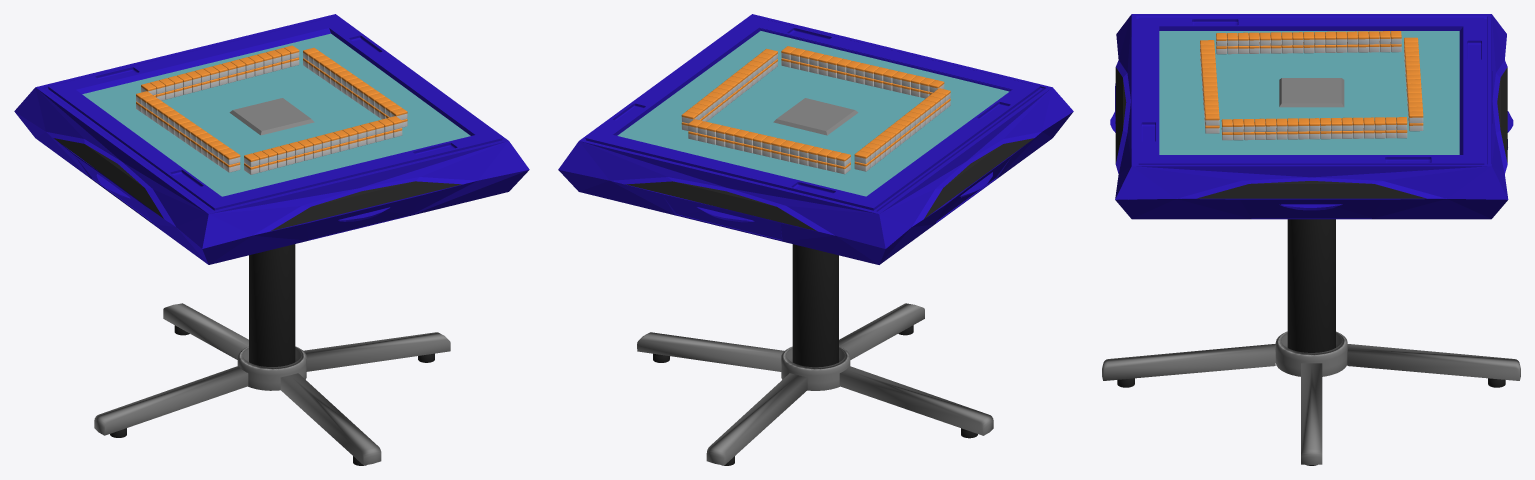
3 renders of one model, left to right at view 1: azimuth 30°, elevation 25°; view 2: azimuth 150°, elevation 25°; view 3: azimuth 270°, elevation 25°, orthographic. The views are drawn at different scales.
Visible parts, largest first — view 1: 卓, ジャン牌, ジャン牌.001; view 2: 卓, ジャン牌, ジャン牌.001; view 3: 卓, ジャン牌.001, ジャン牌.
Part boxes in pixels (x1,y1,x2,y2): 卓: (14, 14, 529, 465); ジャン牌: (141, 45, 402, 174); ジャン牌.001: (136, 47, 407, 172); 卓: (558, 14, 1073, 465); ジャン牌: (688, 46, 944, 174); ジャン牌.001: (681, 48, 950, 171); 卓: (1102, 14, 1520, 465); ジャン牌.001: (1216, 31, 1407, 140); ジャン牌: (1200, 37, 1423, 133).
Size of the model in its own units: 596 by 482 by 598.
